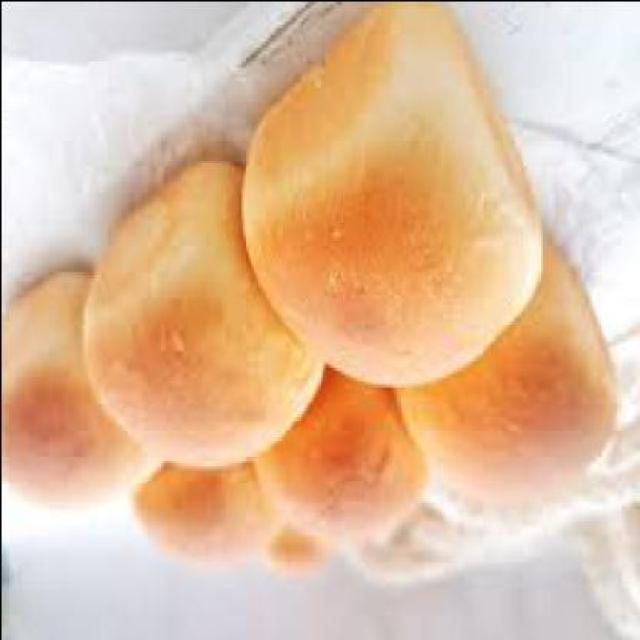BIODEGRADABLE: (242, 3, 544, 389), (84, 162, 328, 476), (396, 244, 618, 505), (2, 274, 164, 511), (258, 369, 430, 548), (130, 462, 284, 564), (265, 538, 326, 574)
